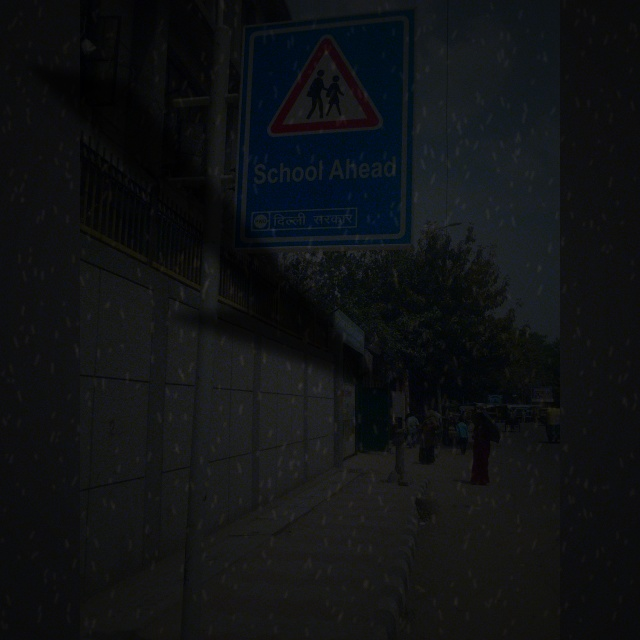School_Ahead: (262, 35, 396, 141)
